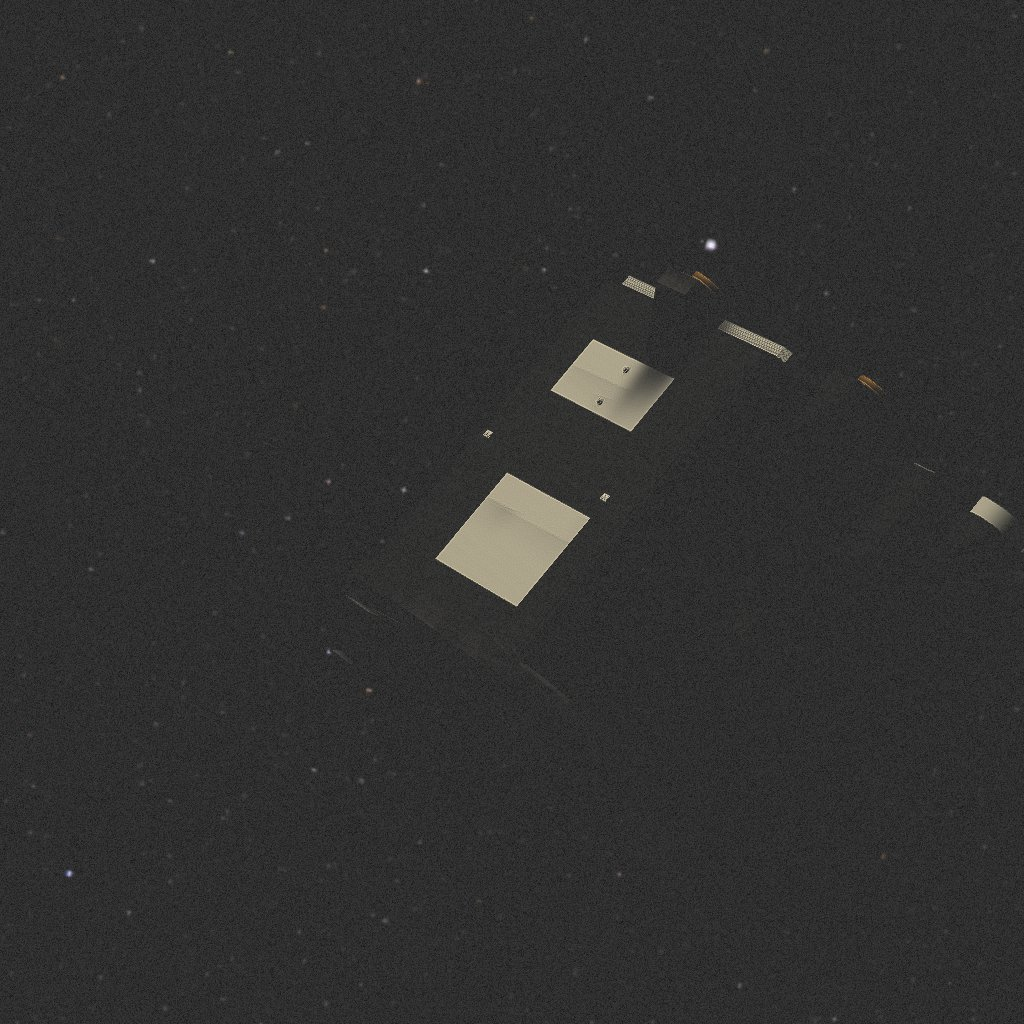proba_3_ocs: (330, 267, 1024, 934)
